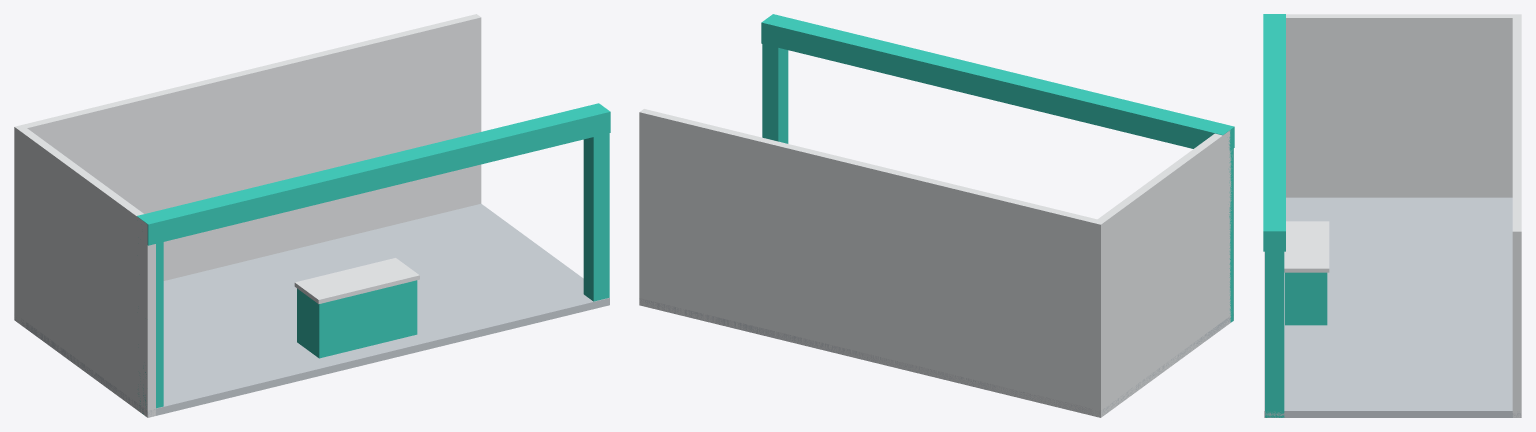
3 renders of one model, left to right at view 1: azimuth 30°, elevation 25°; view 2: azimuth 150°, elevation 25°; view 3: azimuth 270°, elevation 25°, orthographic. The views are drawn at different scales.
Parts seen in each view (by area): view 1: Exhibition Booth Concept; view 2: Exhibition Booth Concept; view 3: Exhibition Booth Concept.
Boxes of the visible parts, <box> form: Exhibition Booth Concept: <box>14,14,610,417</box>; Exhibition Booth Concept: <box>639,14,1234,417</box>; Exhibition Booth Concept: <box>1263,14,1521,417</box>.
Bounding box in the file's own units: 8 × 3.2 × 4.02.
